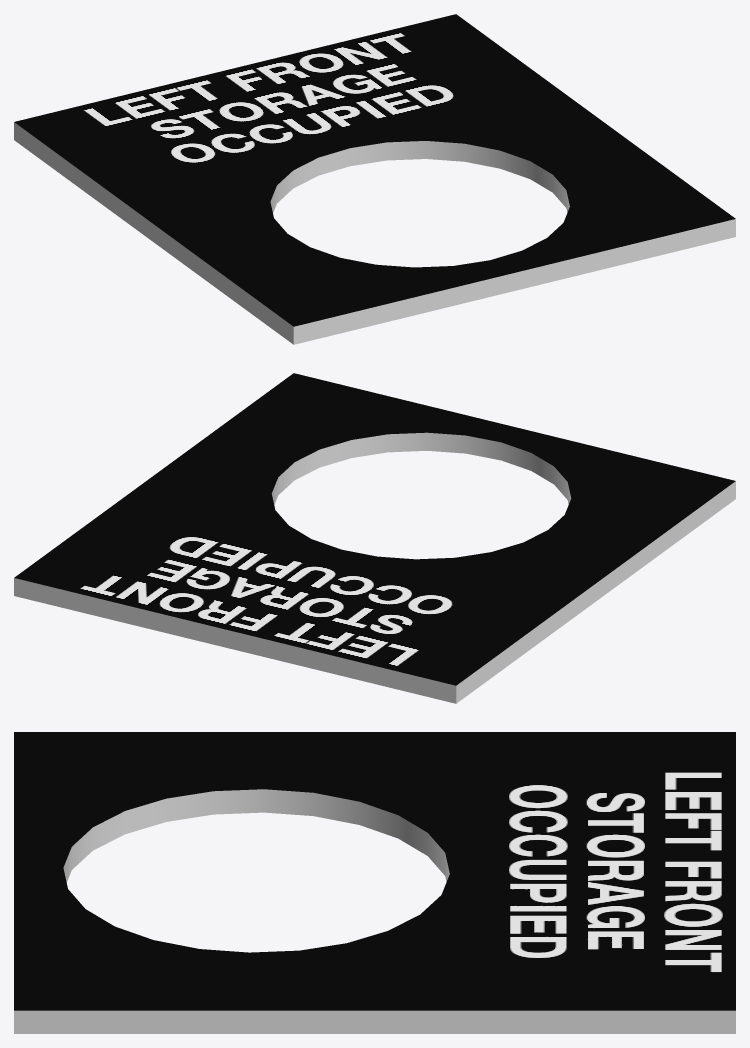
Rendered from leftfrontstorage.dae.
The picture shows the model from 3 angles, top to bottom: view 1: azimuth 30°, elevation 25°; view 2: azimuth 150°, elevation 25°; view 3: azimuth 270°, elevation 25°; orthographic projection. The views are drawn at different scales.
Parts seen in each view (by area): view 1: SketchUp (×3); view 2: SketchUp (×3); view 3: SketchUp (×3).
Boxes of the visible parts, x1=… form: SketchUp (×3): x1=14, y1=14, x2=735, y2=344; SketchUp (×3): x1=14, y1=373, x2=735, y2=703; SketchUp (×3): x1=14, y1=732, x2=735, y2=1033.
Size of the model in its own units: 2.01 by 2.2 by 0.0787.
Materials: 2 (1 with a texture image).
